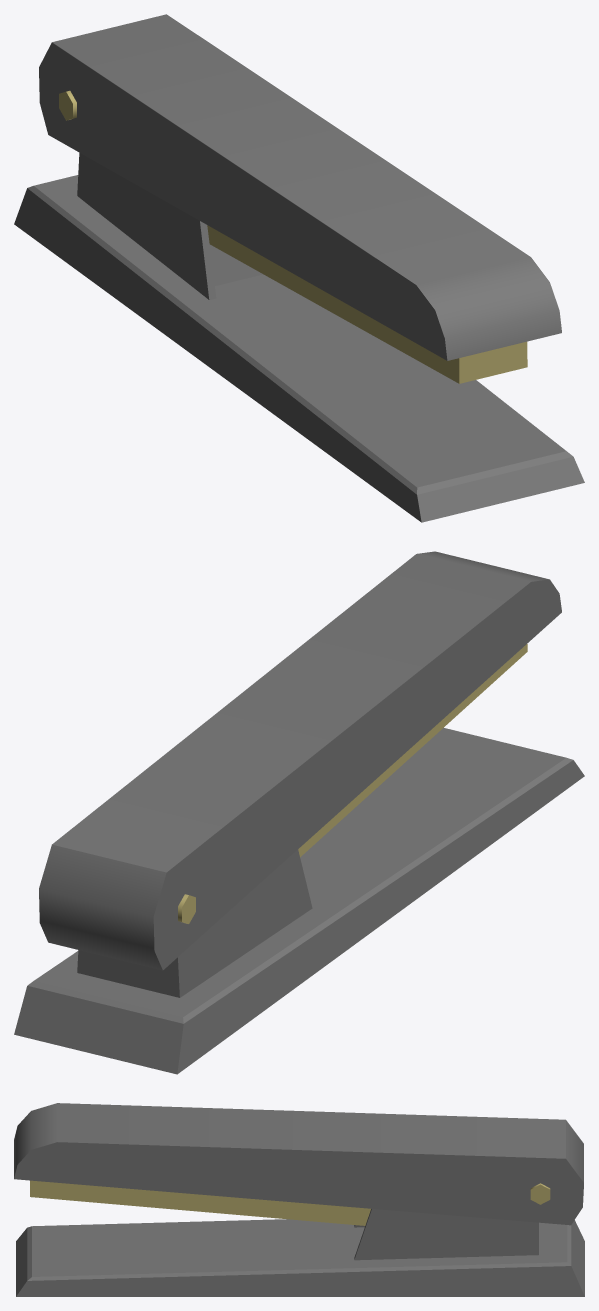
Rendered from DeskLitter_Stapler.fbx.
3 renders of one model, top to bottom at view 1: azimuth 30°, elevation 25°; view 2: azimuth 150°, elevation 25°; view 3: azimuth 270°, elevation 25°, orthographic. The views are drawn at different scales.
Parts seen in each view (by area): view 1: DeskLitter_Stapler; view 2: DeskLitter_Stapler; view 3: DeskLitter_Stapler.
Boxes of the visible parts, <box> form: DeskLitter_Stapler: <box>14,14,584,522</box>; DeskLitter_Stapler: <box>14,551,584,1074</box>; DeskLitter_Stapler: <box>14,1103,584,1296</box>.
Size of the model in its own units: 3.59 by 4.41 by 15.58.
